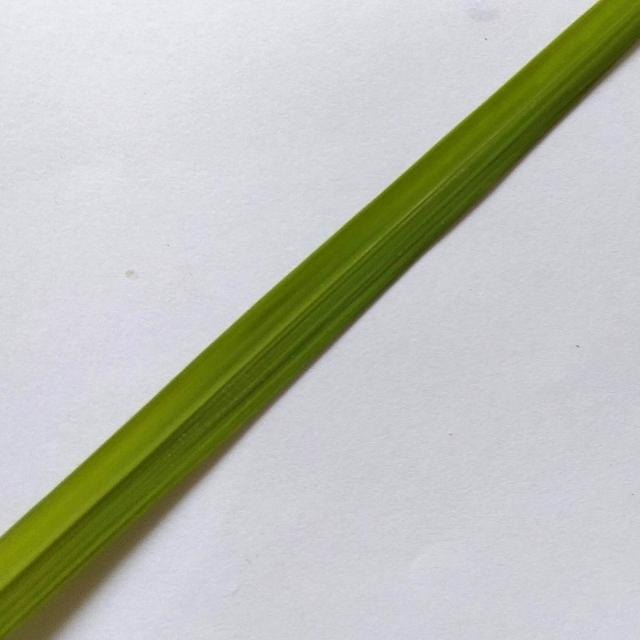Rice_Healthy: (0, 0, 640, 638)
